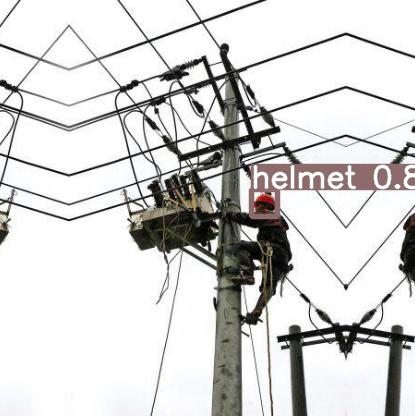helmet: (251, 189, 277, 216)
